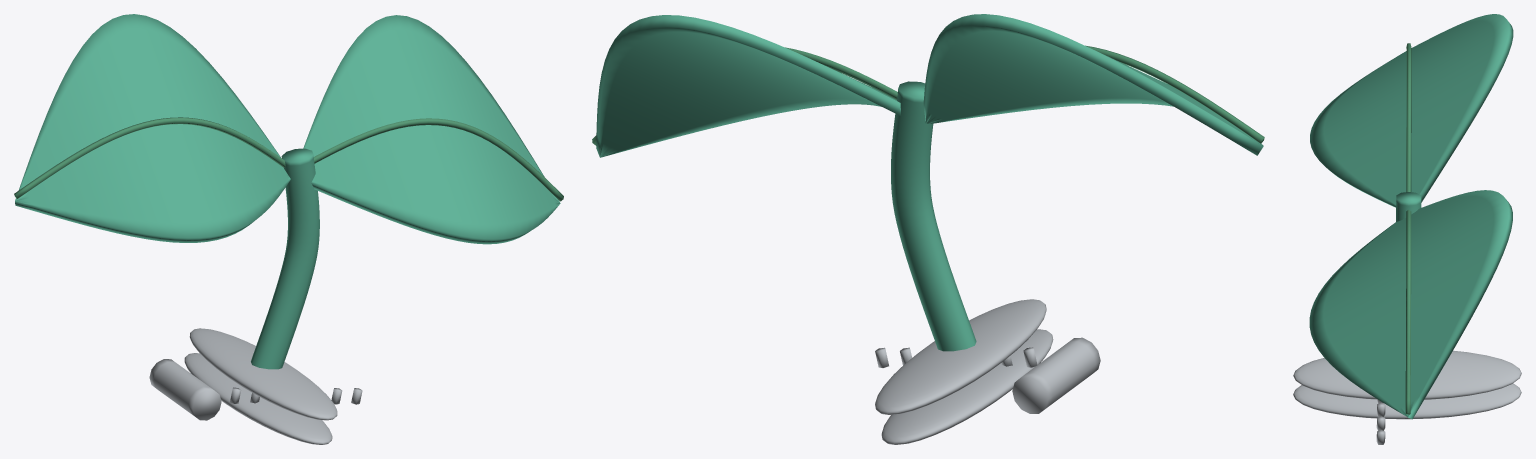
File: Masculine-middle-part-pashmina250-sprout.glb
3 views of the same model, side by side, from view 1: azimuth 30°, elevation 25°; view 2: azimuth 150°, elevation 25°; view 3: azimuth 270°, elevation 25° (orthographic). The views are drawn at different scales.
Parts seen in each view (by area): view 1: 226 extra / Accessory / mint226, 226 extra / Sprout / clip silver235, 226 extra / Sprout / leaf vein235; view 2: 226 extra / Accessory / mint226, 226 extra / Sprout / clip silver235, 226 extra / Sprout / leaf vein235; view 3: 226 extra / Accessory / mint226, 226 extra / Sprout / clip silver235, 226 extra / Sprout / leaf vein235.
Part boxes in pixels (box(x1,y1,x2,y2)): 226 extra / Accessory / mint226: box(15, 14, 560, 369); 226 extra / Sprout / clip silver235: box(149, 328, 362, 444); 226 extra / Sprout / leaf vein235: box(14, 117, 563, 201); 226 extra / Accessory / mint226: box(596, 14, 1263, 351); 226 extra / Sprout / clip silver235: box(875, 299, 1100, 444); 226 extra / Sprout / leaf vein235: box(592, 45, 1264, 145); 226 extra / Accessory / mint226: box(1309, 14, 1513, 419); 226 extra / Sprout / clip silver235: box(1293, 350, 1521, 444); 226 extra / Sprout / leaf vein235: box(1405, 43, 1411, 414).
Size of the model in its own units: 0.2644 by 0.1739 by 0.104.
